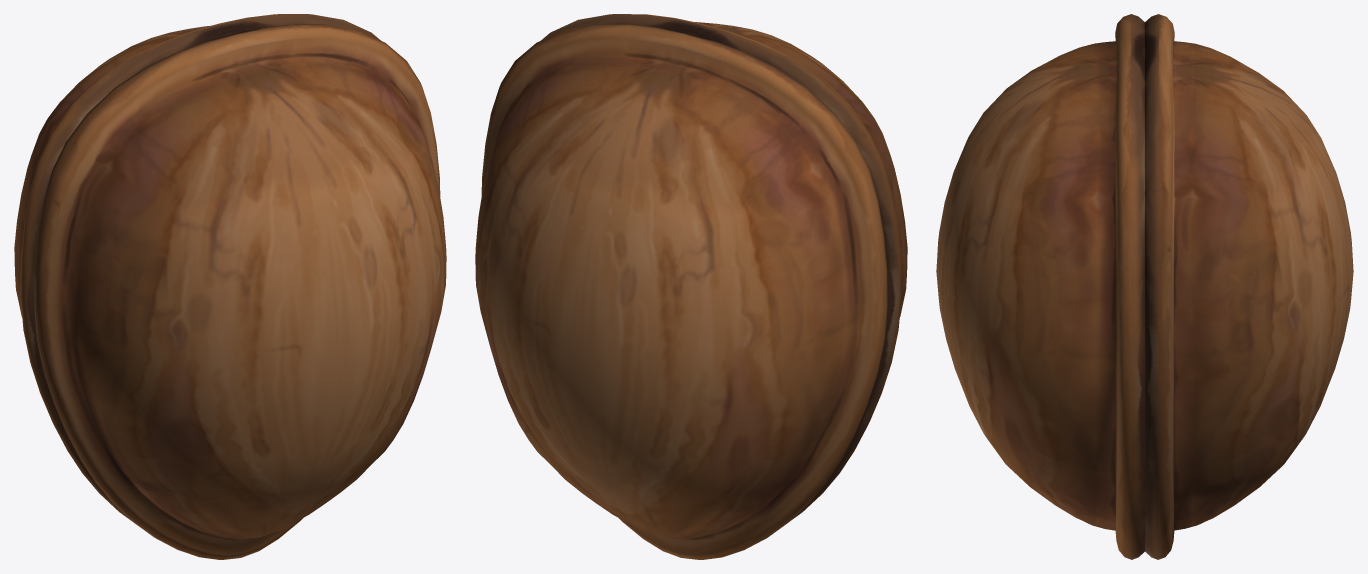
Rendered from WalnutVisuals.fbx.
3 views of the same model, side by side, from view 1: azimuth 30°, elevation 25°; view 2: azimuth 150°, elevation 25°; view 3: azimuth 270°, elevation 25° (orthographic). The views are drawn at different scales.
Visible parts, largest first — view 1: Walnut; view 2: Walnut; view 3: Walnut.
Part boxes in pixels (x1,y1,x2,y2): Walnut: [14, 14, 446, 559]; Walnut: [475, 14, 907, 559]; Walnut: [936, 14, 1353, 559].
Size of the model in its own units: 89.57 by 111 by 83.25.
